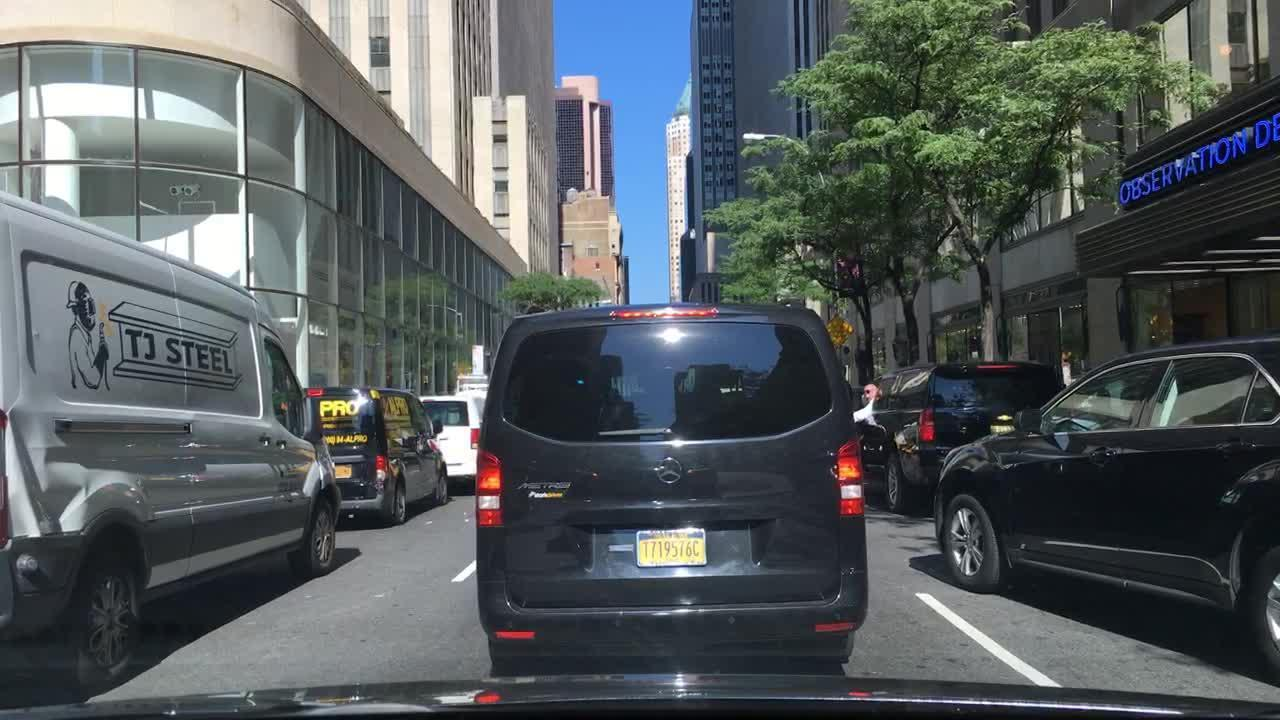Mercedes: (650, 453, 686, 490)
